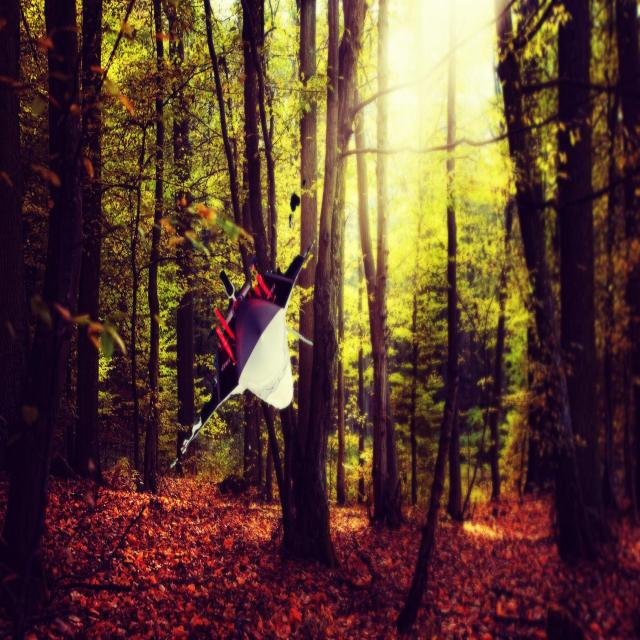airplane: (171, 237, 315, 468)
